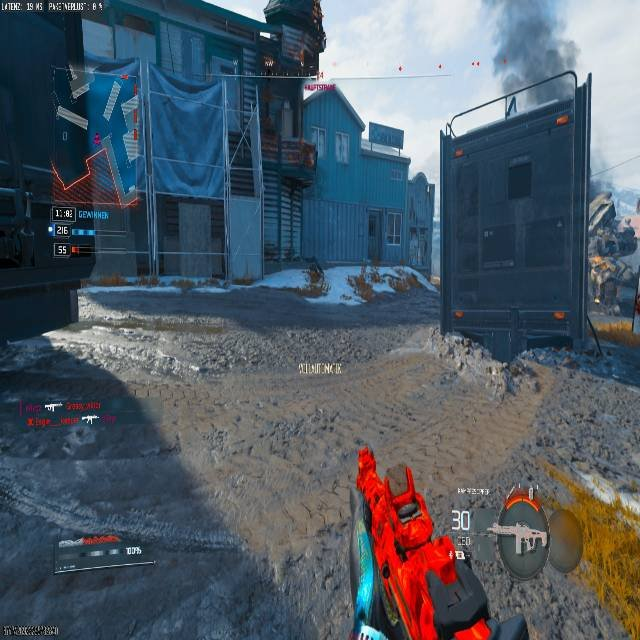head: (588, 192, 615, 229), (308, 263, 321, 279)
player: (587, 190, 639, 331), (295, 262, 330, 297)
